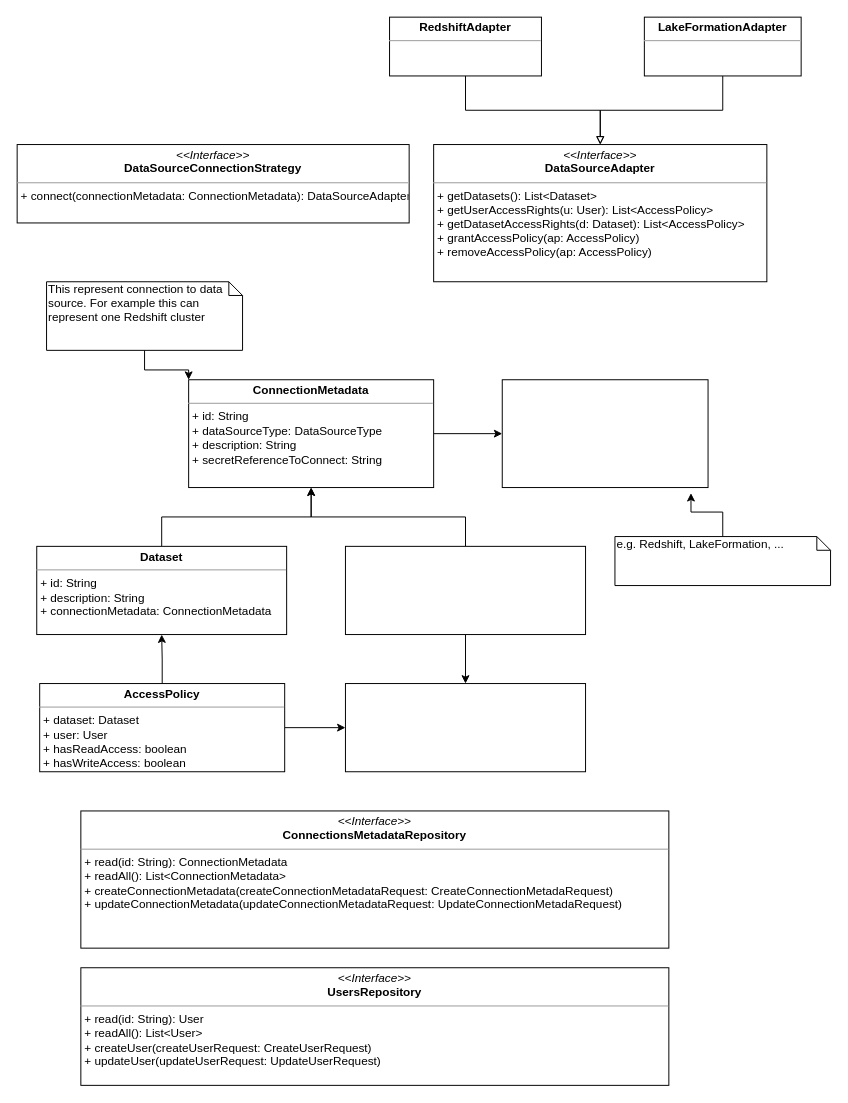
Image size: 848x1103. Some labels were removed from this diagram. Each missing label, with the centre of its shape:
<<enum>> DataSourceType + name: String: point (604, 433)
User + id: String + name: String: point (465, 727)
UserAccount + id: String + user: User + connectionMetadata: ConnectionMetadata: point (465, 590)
